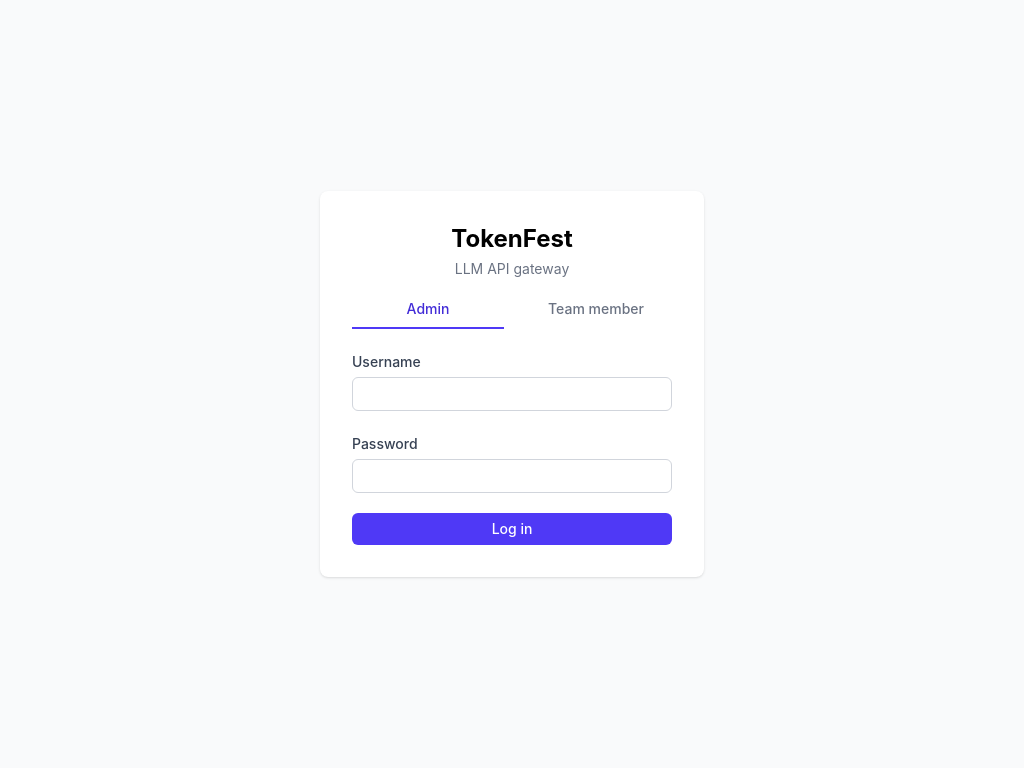
it: admin login opens the overview page
The image size is (1024, 768).
Type "admin" into the field labelled "Username".
click(512, 394); type("admin")  # box top-left (352, 377), bottom-right (672, 411)
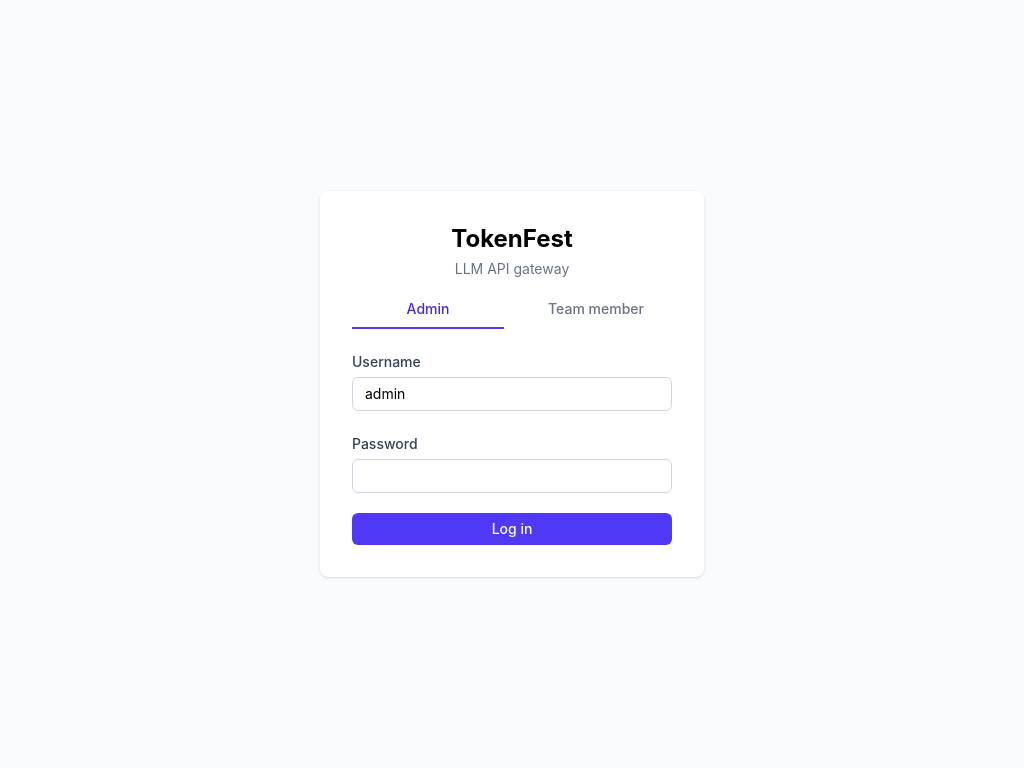
Type "secret" into the password field labelled "Password".
click(512, 476); type("secret")  # box top-left (352, 459), bottom-right (672, 493)
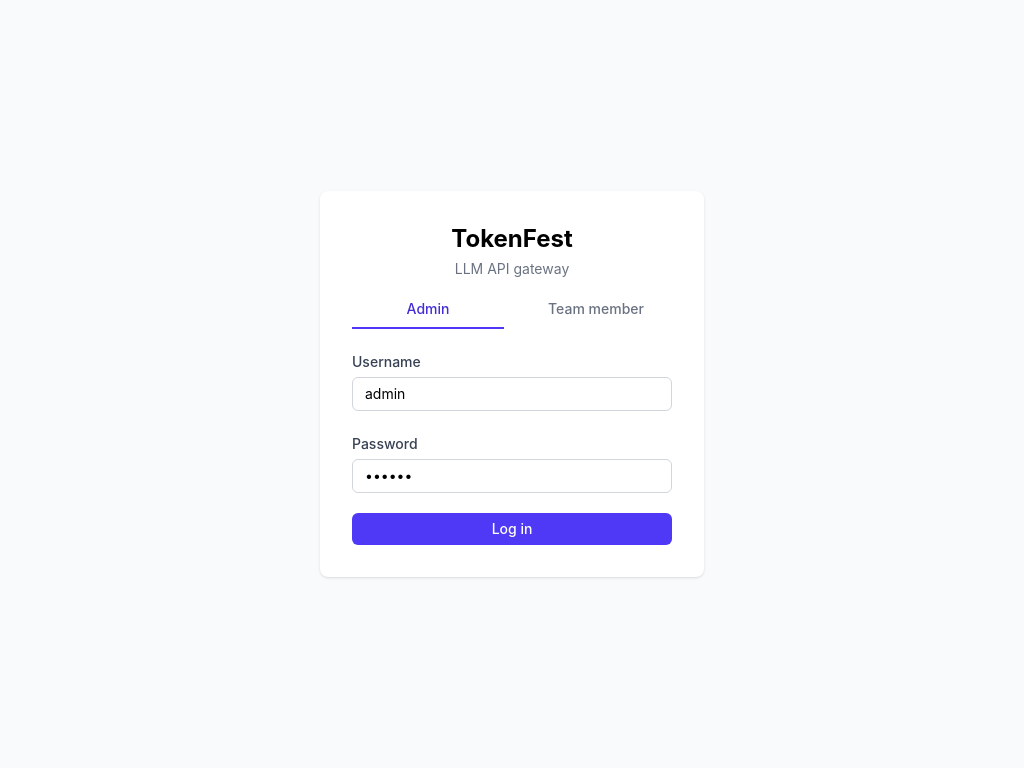
Click the button "Log in".
click(512, 529)  # box top-left (352, 513), bottom-right (672, 545)
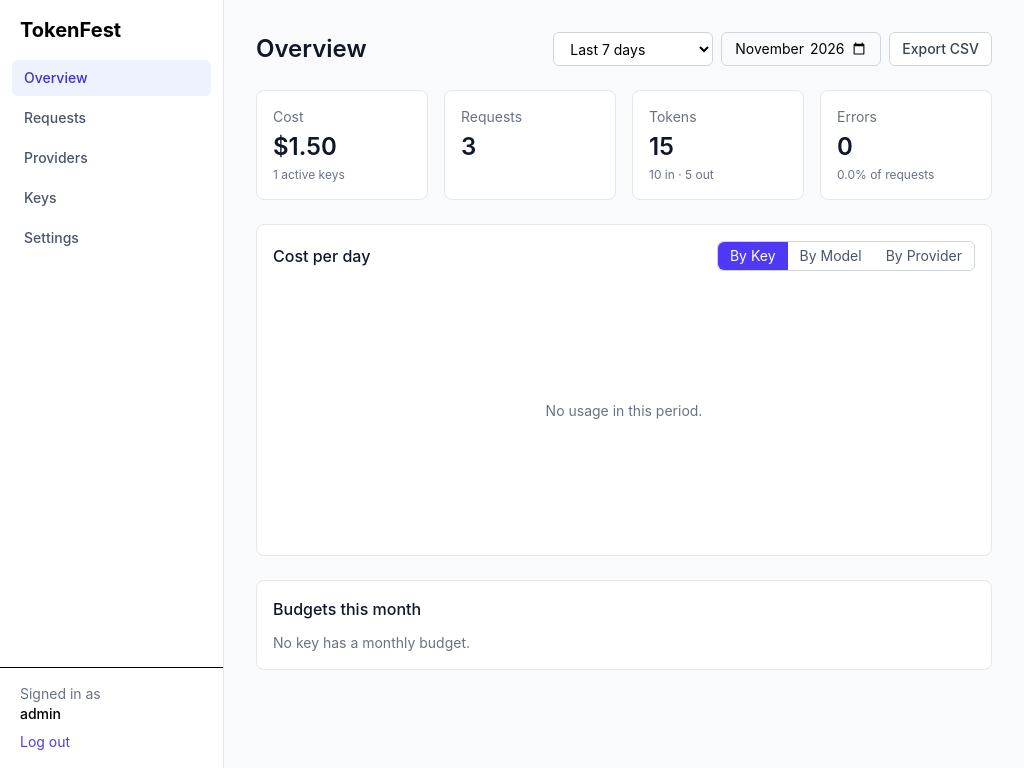
Expected: the text "$1.50" is shown, top-left (273, 132), bottom-right (337, 161)
Expected: the text "No usage in this period." is shown, top-left (546, 402), bottom-right (702, 419)
